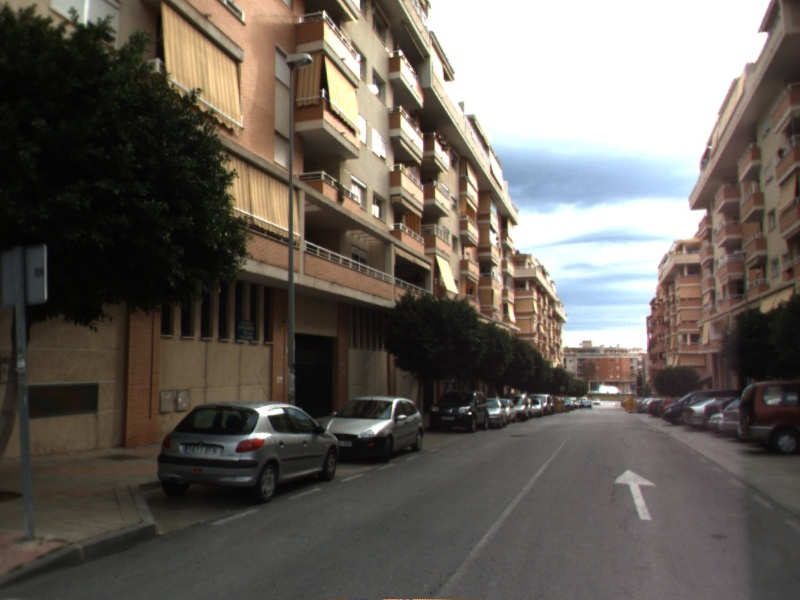STRAIGHT: (611, 467, 659, 522)
